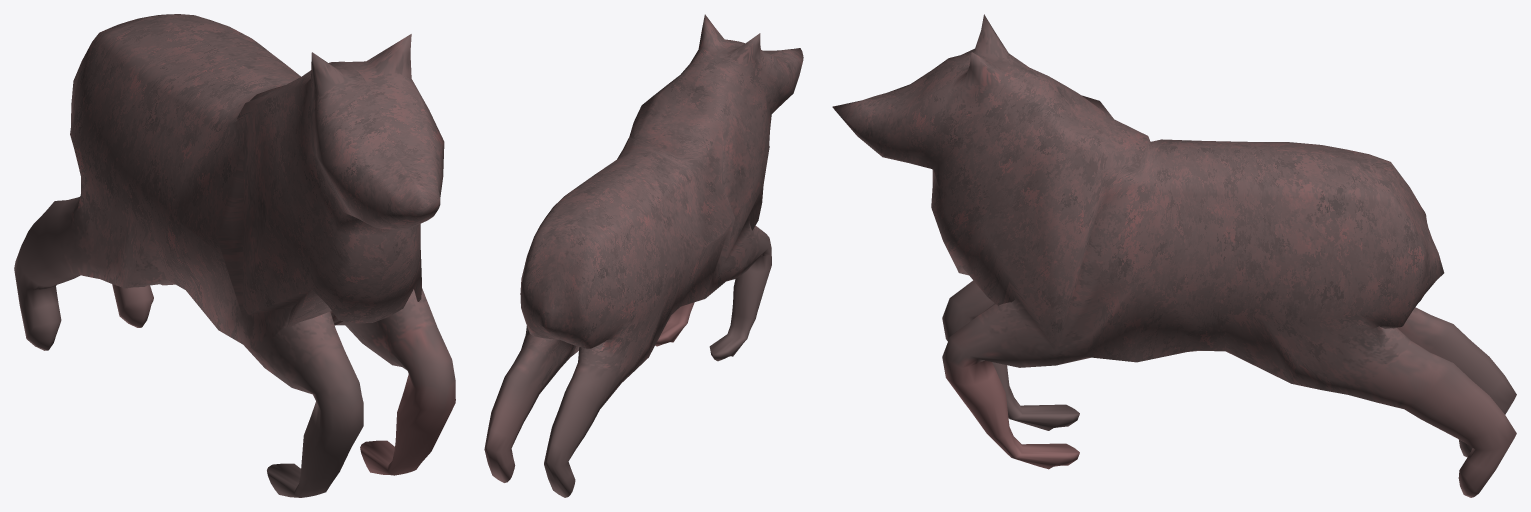
File: piesblend_000012.obj
The picture shows the model from 3 angles, left to right: view 1: azimuth 30°, elevation 25°; view 2: azimuth 150°, elevation 25°; view 3: azimuth 270°, elevation 25°; orthographic projection. The views are drawn at different scales.
Parts seen in each view (by area): view 1: Cube; view 2: Cube; view 3: Cube.
Boxes of the visible parts, <box> form: Cube: <box>14,14,455,497</box>; Cube: <box>484,14,803,497</box>; Cube: <box>832,14,1516,497</box>.
Bounding box in the file's own units: 2.55 × 6.58 × 9.3.
Materials: 1 (1 with a texture image).
